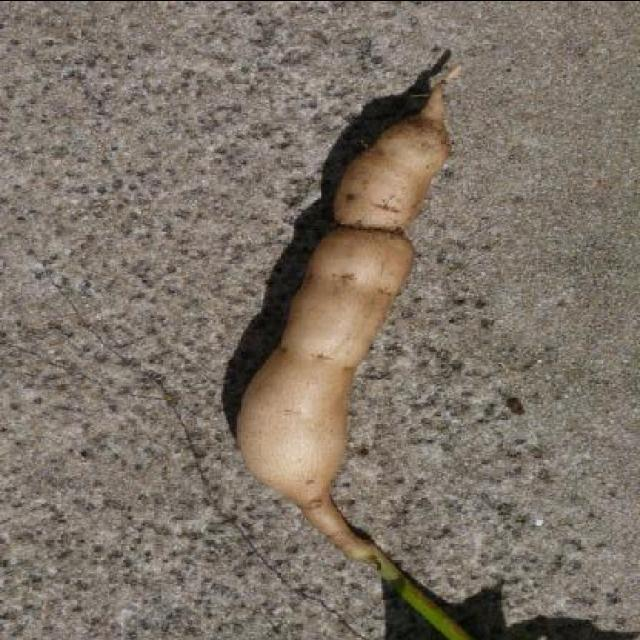Potato: (234, 65, 462, 558)
